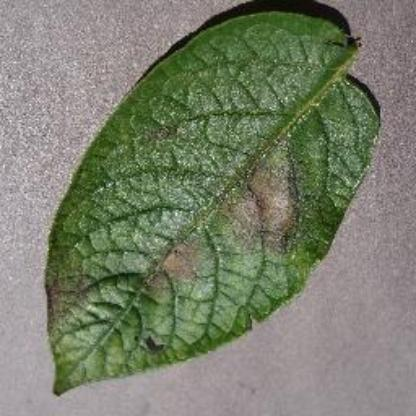Late-Blight: (38, 6, 384, 400)
